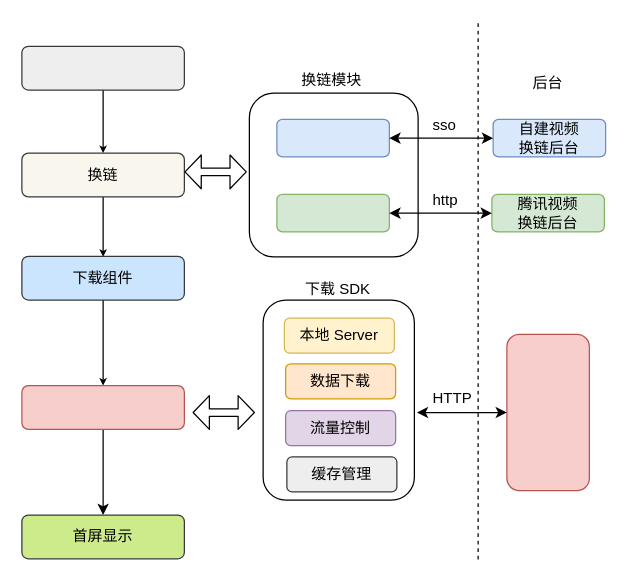
Some shapes in this 628 by 583 pixel diagram are drawn without their labels. The shapes that lost their labels are listed below. From the top down, each one's centre as x and y in pixels, then its label:
At (102,67): "开始播放".
At (332,137): "自建视频换链".
At (332,212): "腾讯视频换链".
At (102,406): "解码渲染".
At (547,412): "视频CDN".
